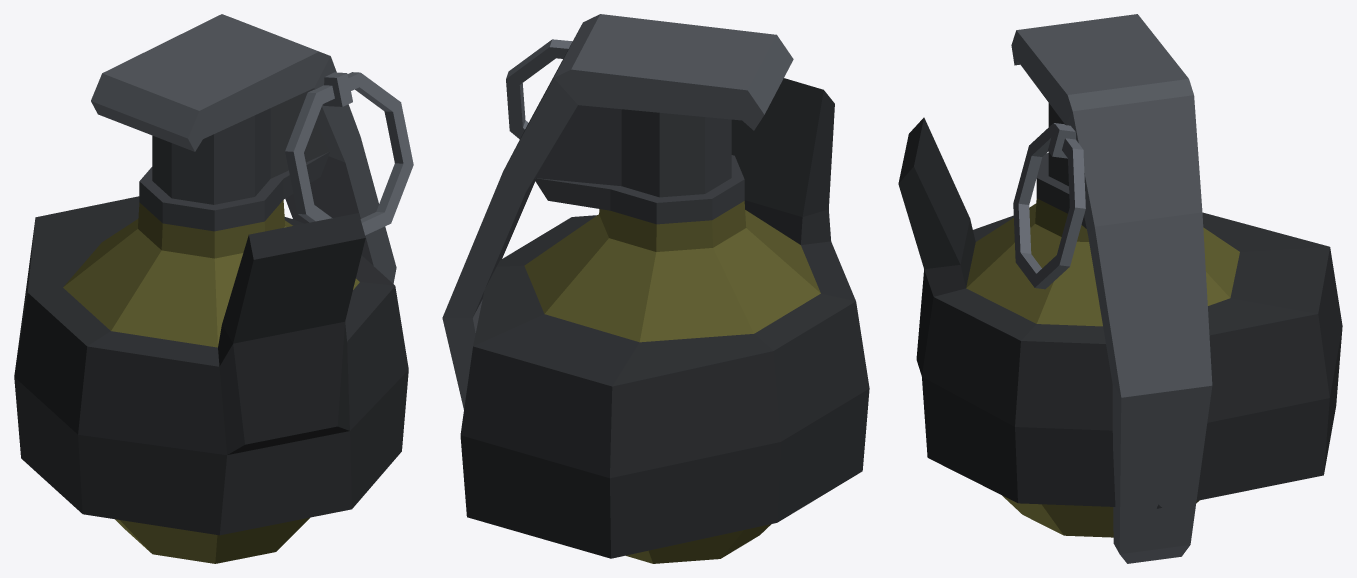
The model's file is SM_Chr_Attach_Grenade_01.fbx.
3 renders of one model, left to right at view 1: azimuth 30°, elevation 25°; view 2: azimuth 150°, elevation 25°; view 3: azimuth 270°, elevation 25°, orthographic. The views are drawn at different scales.
Parts seen in each view (by area): view 1: SM_Chr_Attach_Grenade_01; view 2: SM_Chr_Attach_Grenade_01; view 3: SM_Chr_Attach_Grenade_01.
Part boxes in pixels (x1,y1,x2,y2): SM_Chr_Attach_Grenade_01: (14,14,413,563); SM_Chr_Attach_Grenade_01: (442,14,869,563); SM_Chr_Attach_Grenade_01: (898,14,1342,563).
Size of the model in its own units: 10.2 by 13.07 by 11.36.
